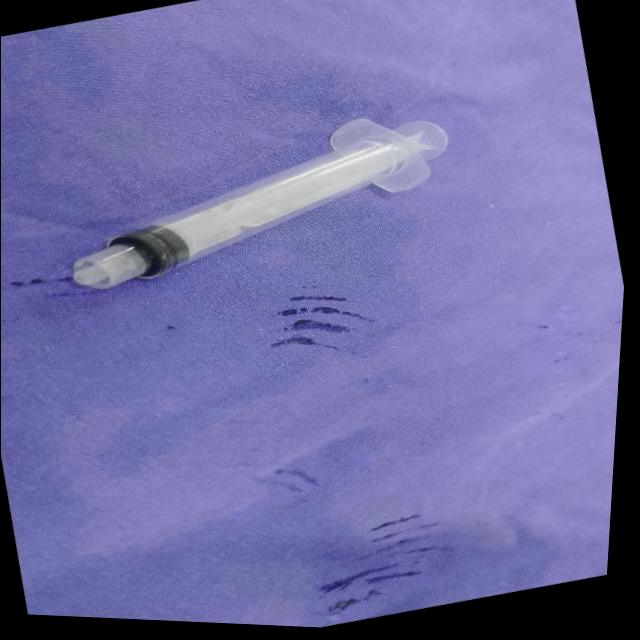Pathological: (2, 1, 624, 628)
Sharps: (70, 116, 449, 290)
